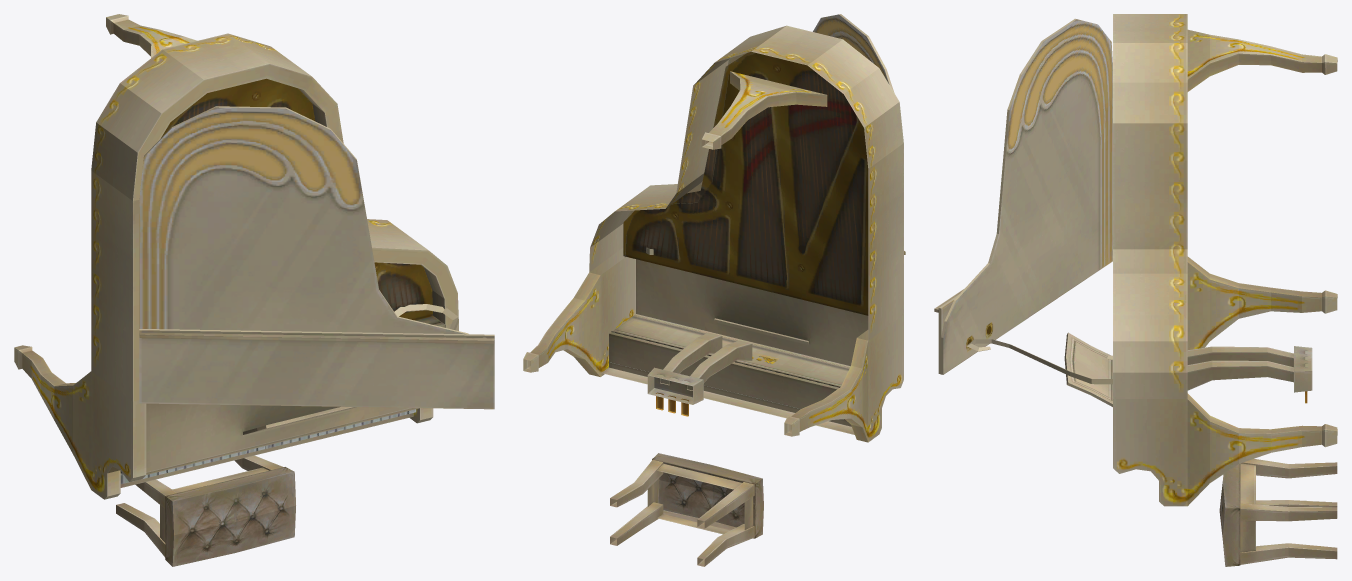
File: huisuo_dongxue_209_qin.obj
3 renders of one model, left to right at view 1: azimuth 30°, elevation 25°; view 2: azimuth 150°, elevation 25°; view 3: azimuth 270°, elevation 25°, orthographic. The views are drawn at different scales.
Visible parts, largest first — view 1: huisuo_dongxue_209_qin; view 2: huisuo_dongxue_209_qin; view 3: huisuo_dongxue_209_qin.
Part boxes in pixels (left/top/right/bottom): huisuo_dongxue_209_qin: left=14, top=14, right=494, bottom=566; huisuo_dongxue_209_qin: left=523, top=14, right=905, bottom=566; huisuo_dongxue_209_qin: left=934, top=14, right=1337, bottom=566.
Size of the model in its own units: 126 by 190 by 143.
Materials: 1 (1 with a texture image).
